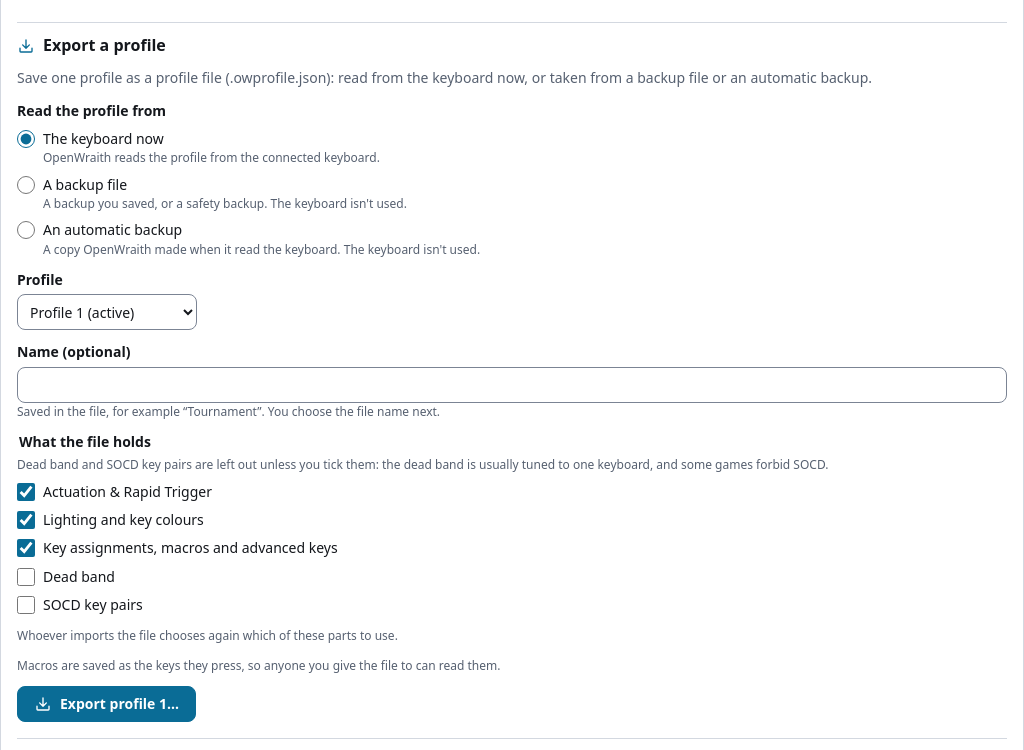
export › exports the active profile as a pure read and shows what the file holds
(page scrolled)
In the field labelled "Name (optional)": (512, 385) [17,367,1007,403], type "  Tournament "
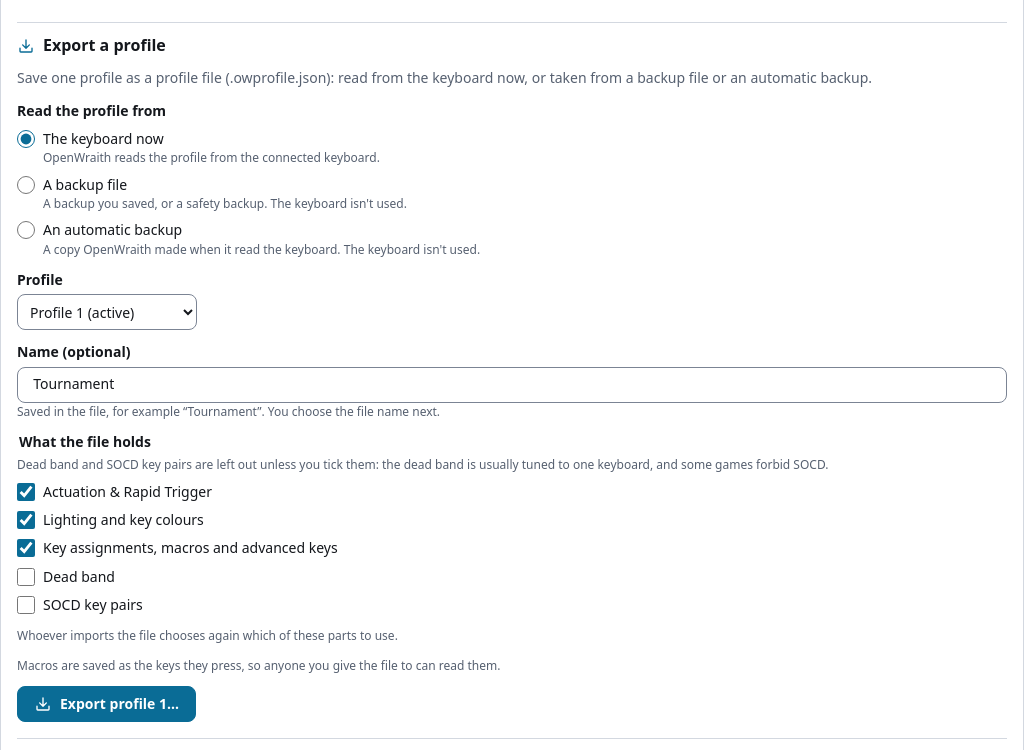
Click the button "Export profile 1…": click(106, 704) [17,686,196,722]
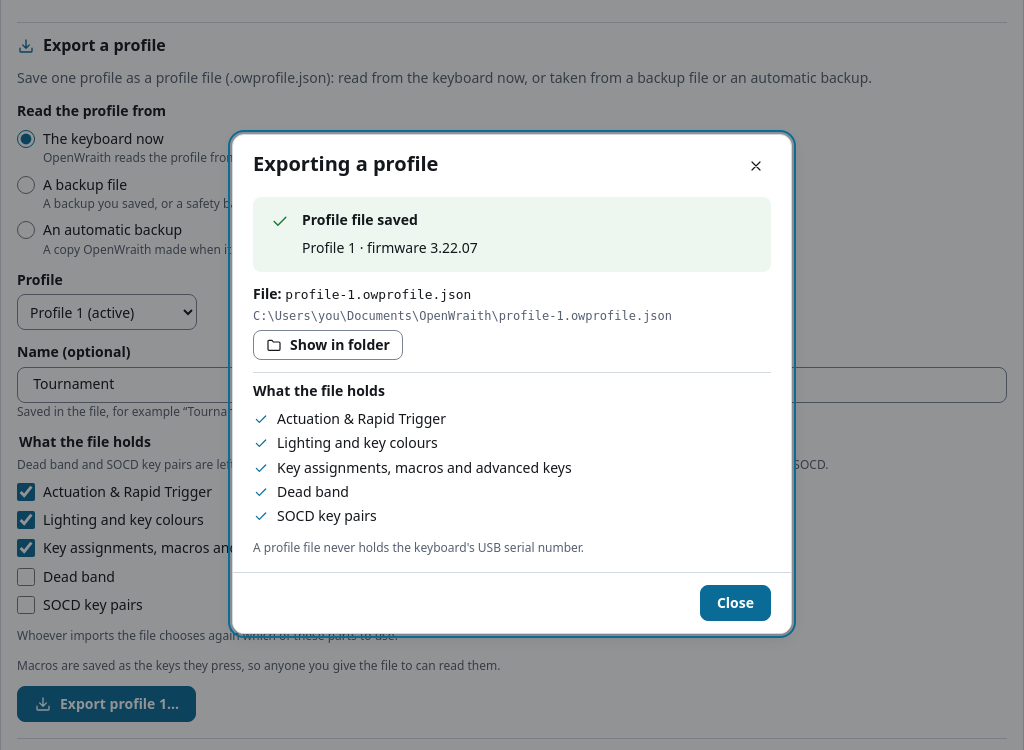
Now the text "Profile file saved" is shown, box [302,210,418,229]
Now the text "profile-1.owprofile.json" is shown, box [285,287,471,302]
Now the text "SOCD key pairs" is shown, box [277,506,377,526]
